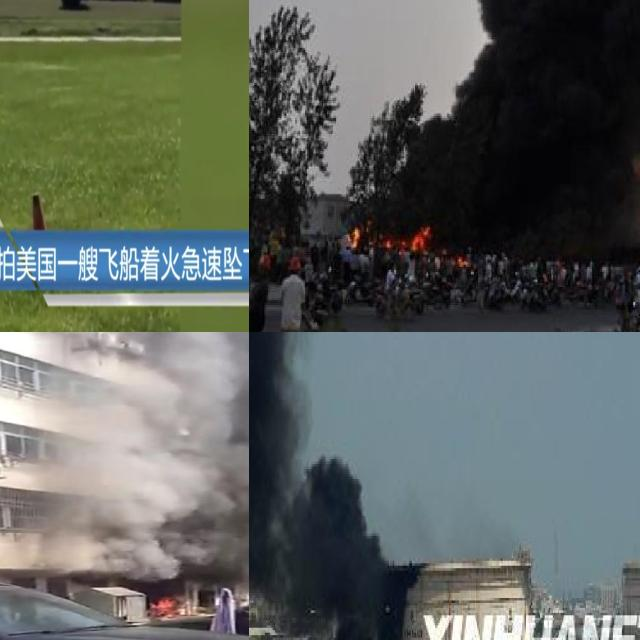fire: (149, 595, 179, 615), (408, 223, 430, 249)
smoke: (377, 0, 640, 246), (43, 332, 249, 554), (249, 332, 395, 640)
